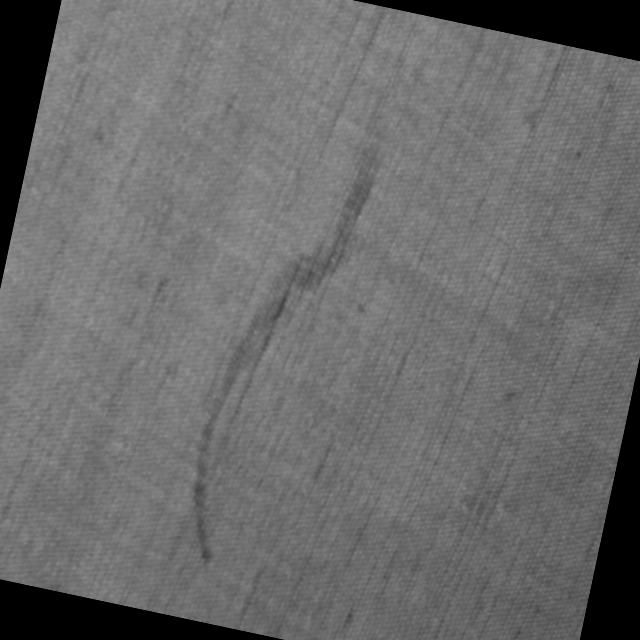oil spot: (169, 119, 386, 585)
